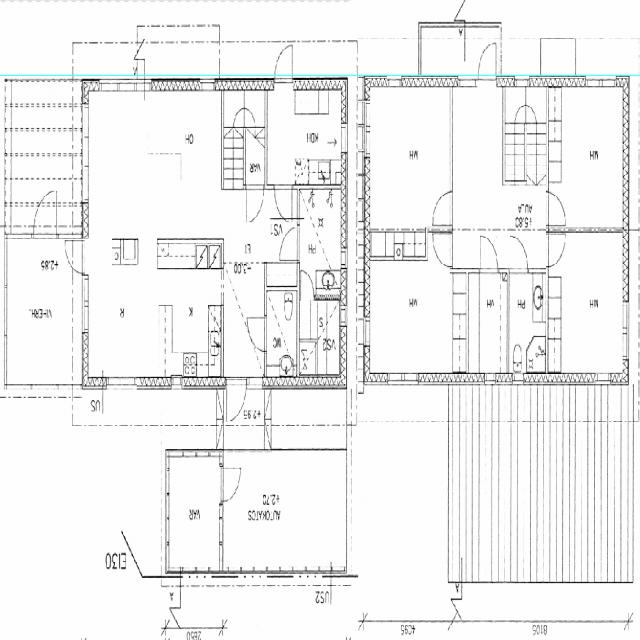door: (33, 188, 56, 238), (226, 377, 246, 427), (274, 42, 292, 90), (478, 44, 496, 88), (64, 242, 88, 274), (246, 316, 267, 352), (220, 467, 241, 502), (246, 184, 264, 222), (432, 191, 452, 225), (545, 234, 565, 266), (481, 235, 498, 272), (511, 235, 528, 272), (433, 235, 452, 266), (281, 230, 300, 260), (276, 184, 292, 219), (546, 193, 564, 224), (301, 271, 313, 300)
